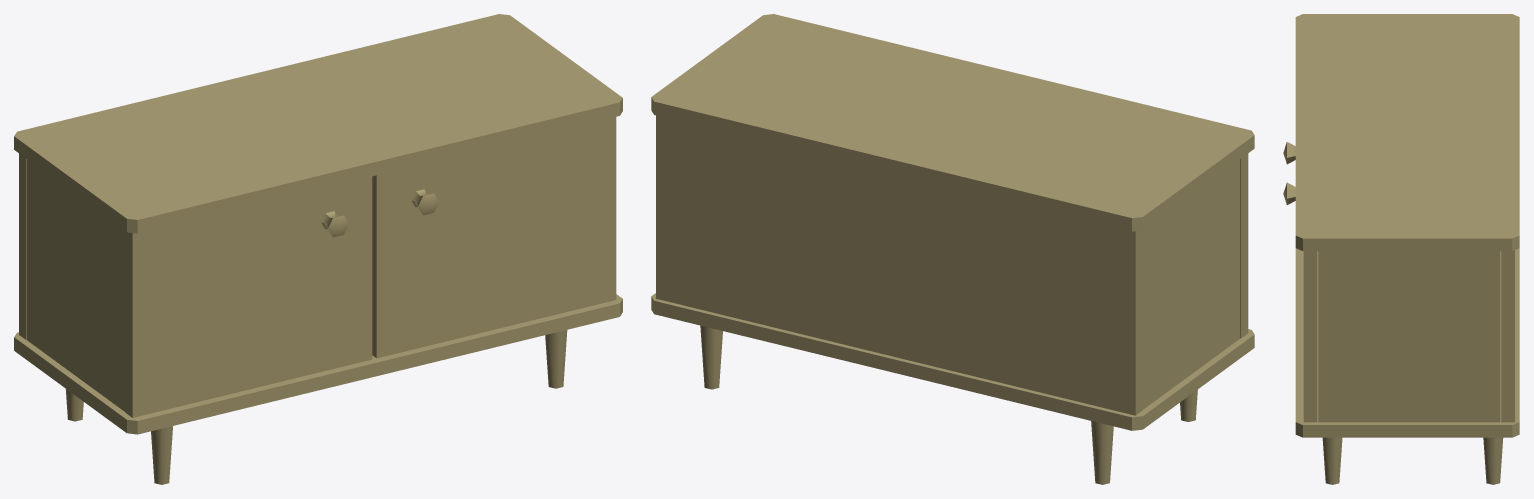
The model's file is room_toomba_mesh_01.fbx.
3 renders of one model, left to right at view 1: azimuth 30°, elevation 25°; view 2: azimuth 150°, elevation 25°; view 3: azimuth 270°, elevation 25°, orthographic. The views are drawn at different scales.
Parts seen in each view (by area): view 1: polySurface3, polySurface10, pPlane20, pCylinder30, pCylinder3; view 2: polySurface10, pPlane20, pCylinder30, polySurface3; view 3: polySurface10, pPlane20, polySurface3, pCylinder30, pCylinder3.
Boxes of the visible parts, <box> form: polySurface3: <box>125,117,616,417</box>; polySurface10: <box>14,14,622,434</box>; pPlane20: <box>27,159,125,411</box>; pCylinder30: <box>65,330,567,484</box>; pCylinder3: <box>321,189,439,237</box>; polySurface10: <box>651,14,1254,430</box>; pPlane20: <box>1142,159,1239,409</box>; pCylinder30: <box>700,325,1197,484</box>; polySurface3: <box>1240,153,1248,338</box>; polySurface10: <box>1295,14,1519,437</box>; pPlane20: <box>1318,251,1500,422</box>; polySurface3: <box>1303,251,1317,422</box>; pCylinder30: <box>1322,437,1503,484</box>; pCylinder3: <box>1283,142,1295,204</box>.
Size of the model in its own units: 121 by 66.95 by 53.92.
